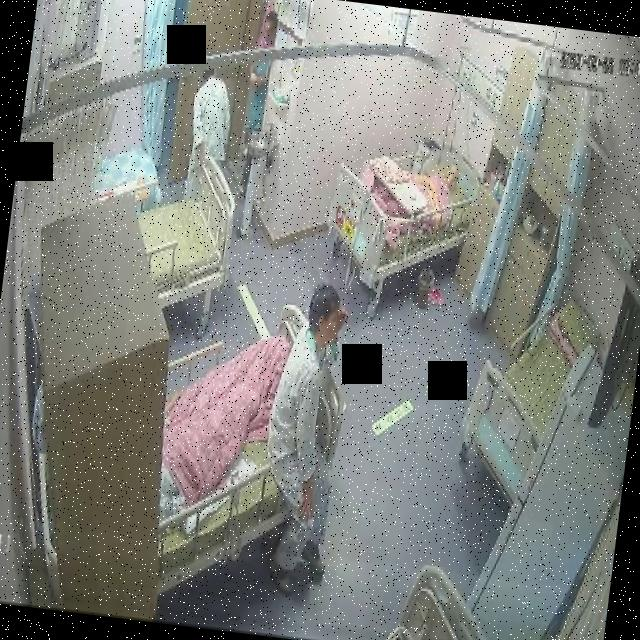bed: (144, 292, 356, 577), (306, 114, 481, 320), (452, 297, 594, 513), (125, 146, 244, 316)
patient: (240, 280, 362, 592), (185, 60, 238, 172)
sit: (242, 280, 362, 590)
stand: (186, 59, 238, 172)
